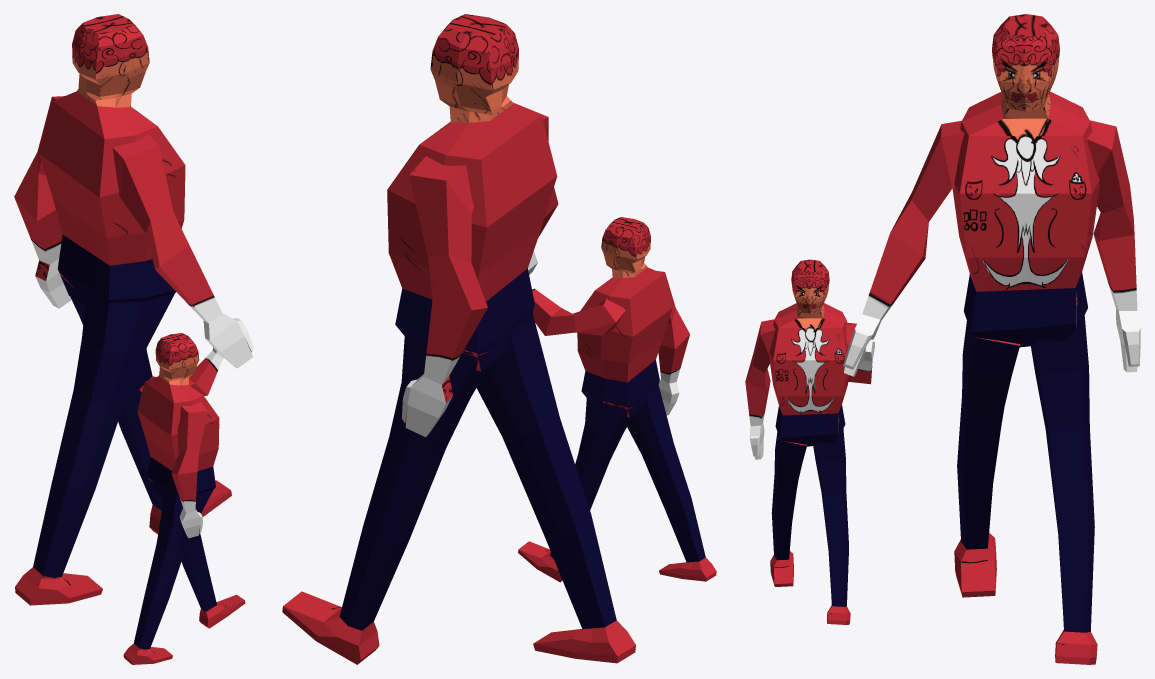
The model's file is ParentEtEnfant.fbx.
The picture shows the model from 3 angles, left to right: view 1: azimuth 30°, elevation 25°; view 2: azimuth 150°, elevation 25°; view 3: azimuth 270°, elevation 25°; orthographic projection. The views are drawn at different scales.
Visible parts, largest first — view 1: Cube.001, Cube.002; view 2: Cube.001, Cube.002; view 3: Cube.001, Cube.002.
Boxes of the visible parts, <box> form: Cube.001: <box>14,14,253,605</box>; Cube.002: <box>123,333,245,664</box>; Cube.001: <box>282,14,635,664</box>; Cube.002: <box>518,217,716,582</box>; Cube.001: <box>843,14,1140,664</box>; Cube.002: <box>745,259,874,624</box>.
Bounding box in the file's own units: 204 × 433 × 260.
